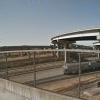Bridge: (15, 26, 100, 58)
